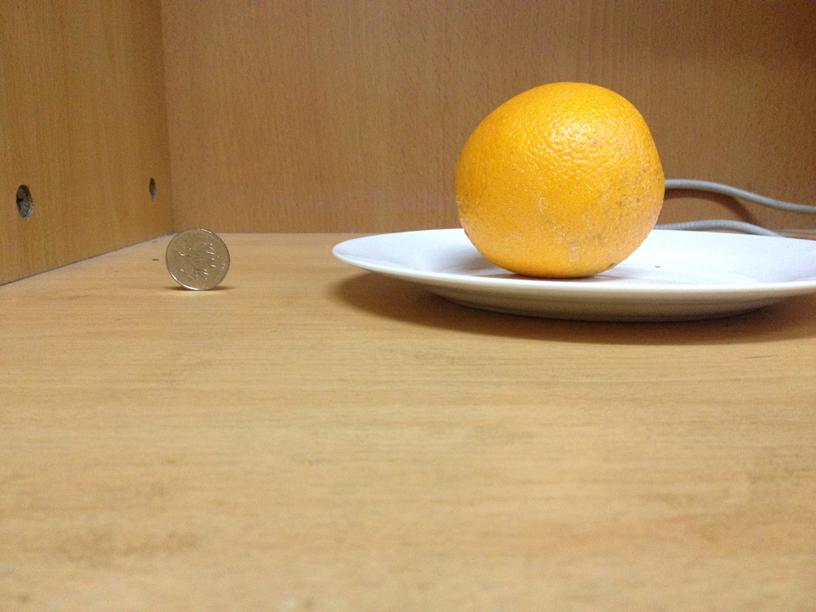coin: (164, 228, 231, 288)
orange: (452, 83, 666, 277)
